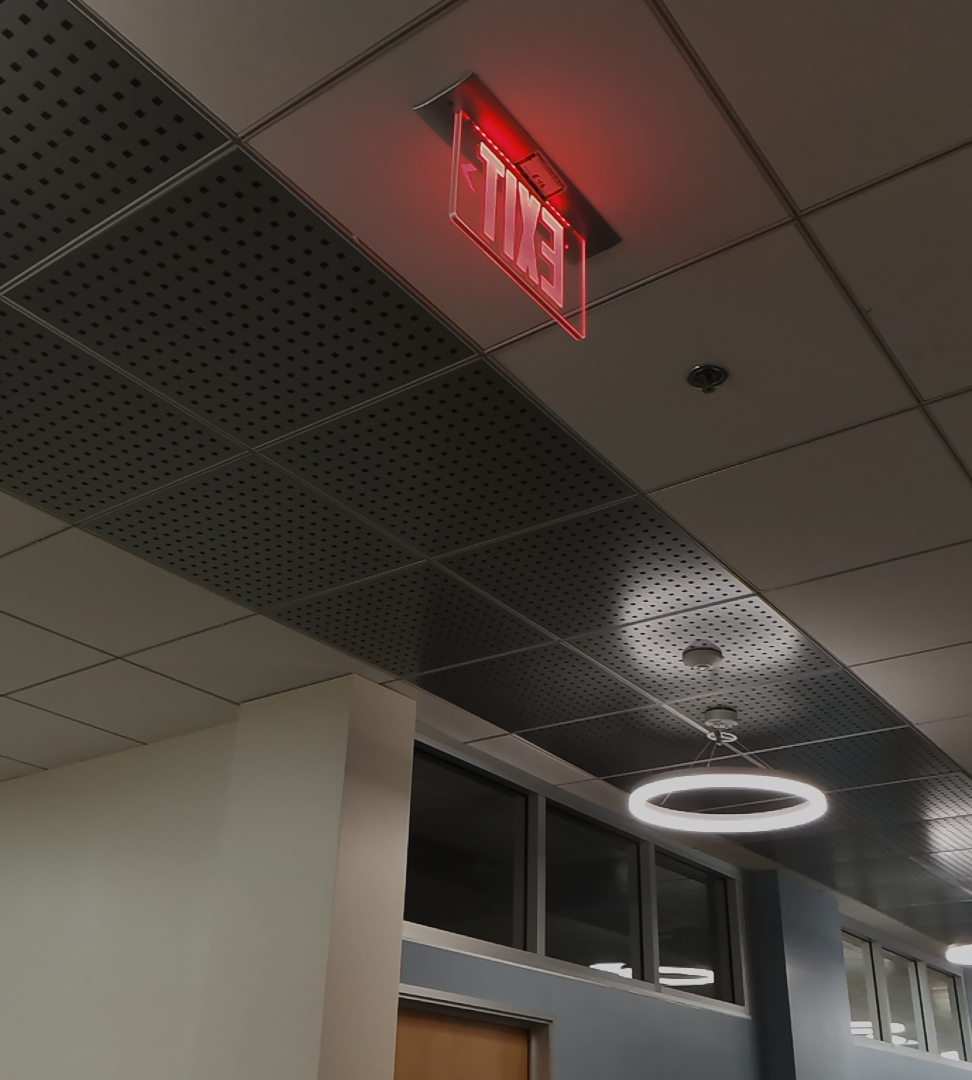emergency_exit: (412, 71, 592, 342), (445, 106, 589, 341)
